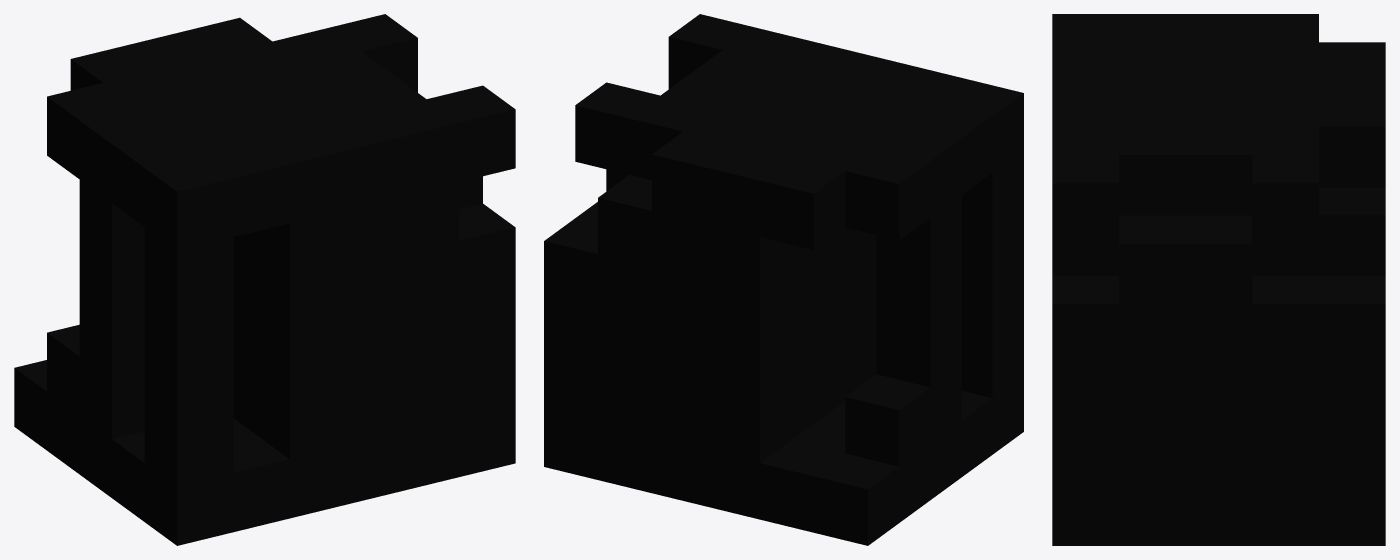
The model's file is chaotic_left_boot.obj.
3 renders of one model, left to right at view 1: azimuth 30°, elevation 25°; view 2: azimuth 150°, elevation 25°; view 3: azimuth 270°, elevation 25°, orthographic. The views are drawn at different scales.
Parts seen in each view (by area): view 1: chaotic_left_boot; view 2: chaotic_left_boot; view 3: chaotic_left_boot.
Boxes of the visible parts, <box> form: chaotic_left_boot: <box>14,14,515,545</box>; chaotic_left_boot: <box>544,14,1023,545</box>; chaotic_left_boot: <box>1052,14,1385,545</box>.
Size of the model in its own units: 6 by 6 by 5.
